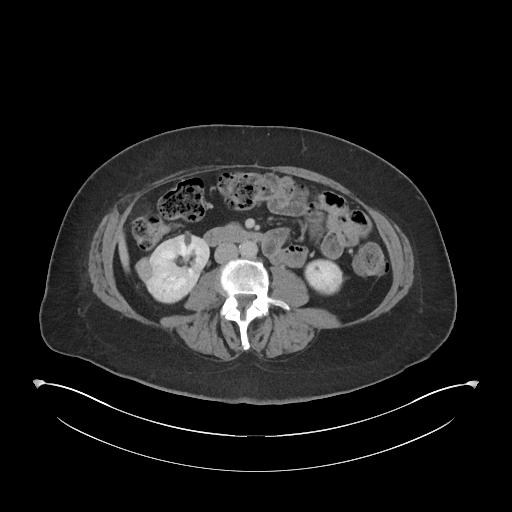Lesion: (133, 253, 155, 283)
